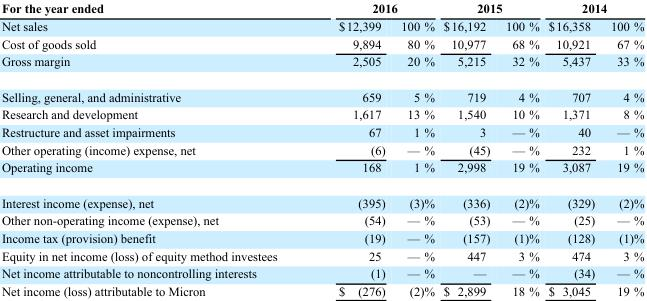table: (0, 0, 643, 297)
table column: (0, 0, 307, 297), (307, 0, 392, 297), (438, 0, 497, 297), (543, 0, 602, 297), (392, 0, 438, 297), (497, 0, 543, 297), (602, 0, 643, 297)
table column header: (0, 0, 643, 34)
table row: (0, 78, 643, 105), (0, 184, 643, 211), (0, 52, 643, 78), (0, 158, 643, 184), (0, 16, 643, 34), (0, 34, 643, 52), (0, 122, 643, 140), (0, 140, 643, 158), (0, 228, 643, 246), (0, 246, 643, 264), (0, 105, 643, 122), (0, 211, 643, 228), (0, 264, 643, 281), (0, 0, 643, 16), (0, 281, 643, 297)
table spanning cell: (0, 0, 307, 34), (307, 0, 438, 16), (438, 0, 543, 16), (543, 0, 643, 16)
